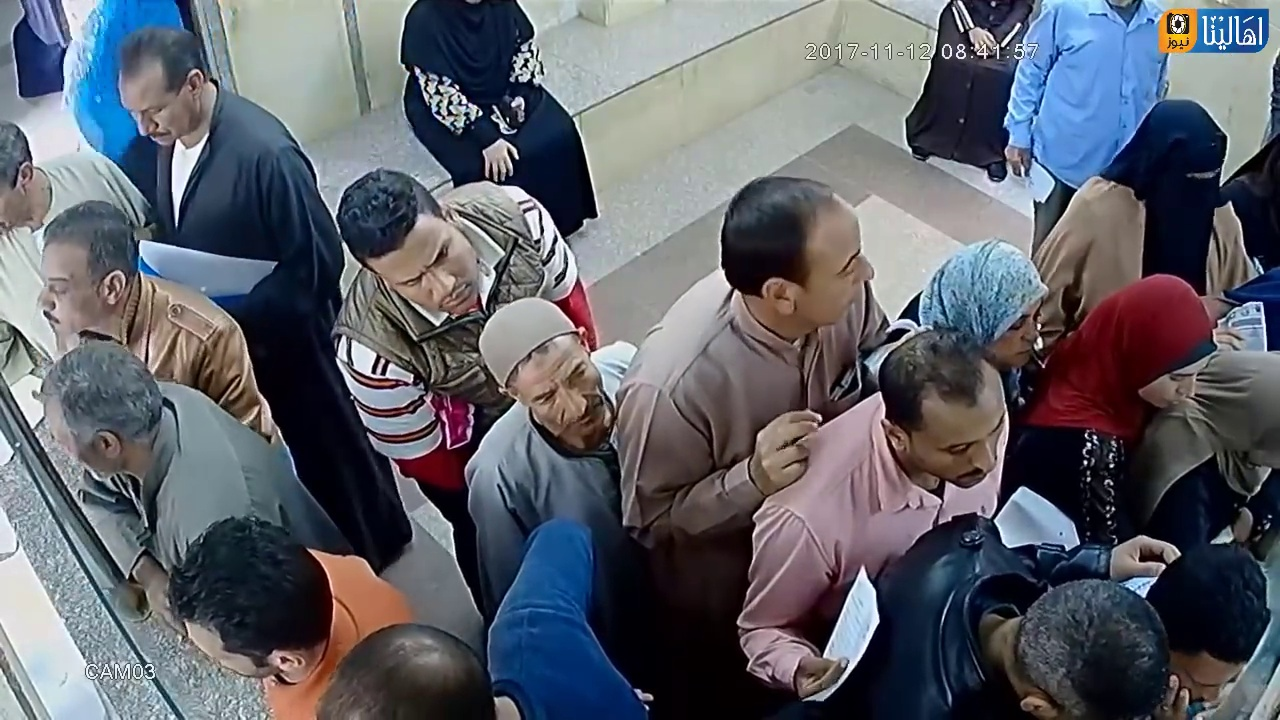face: (792, 211, 886, 333), (530, 343, 610, 454), (388, 234, 478, 322), (920, 402, 1006, 490), (36, 241, 107, 333), (126, 63, 182, 165), (997, 274, 1041, 373), (1152, 343, 1200, 414)
